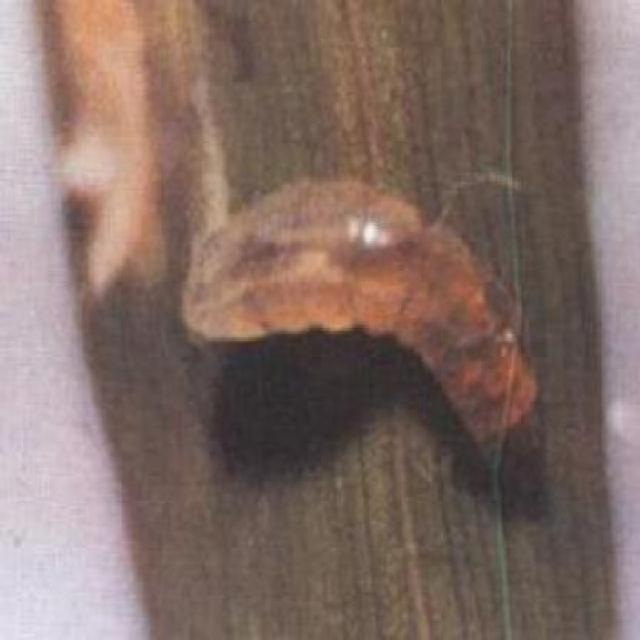whorl-maggot: (182, 169, 542, 456)
